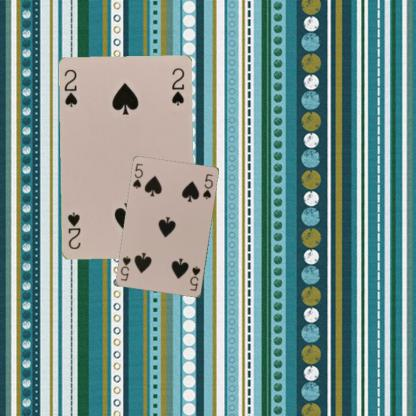2s: (62, 67, 79, 109)
5s: (187, 264, 202, 292), (130, 161, 144, 190)
